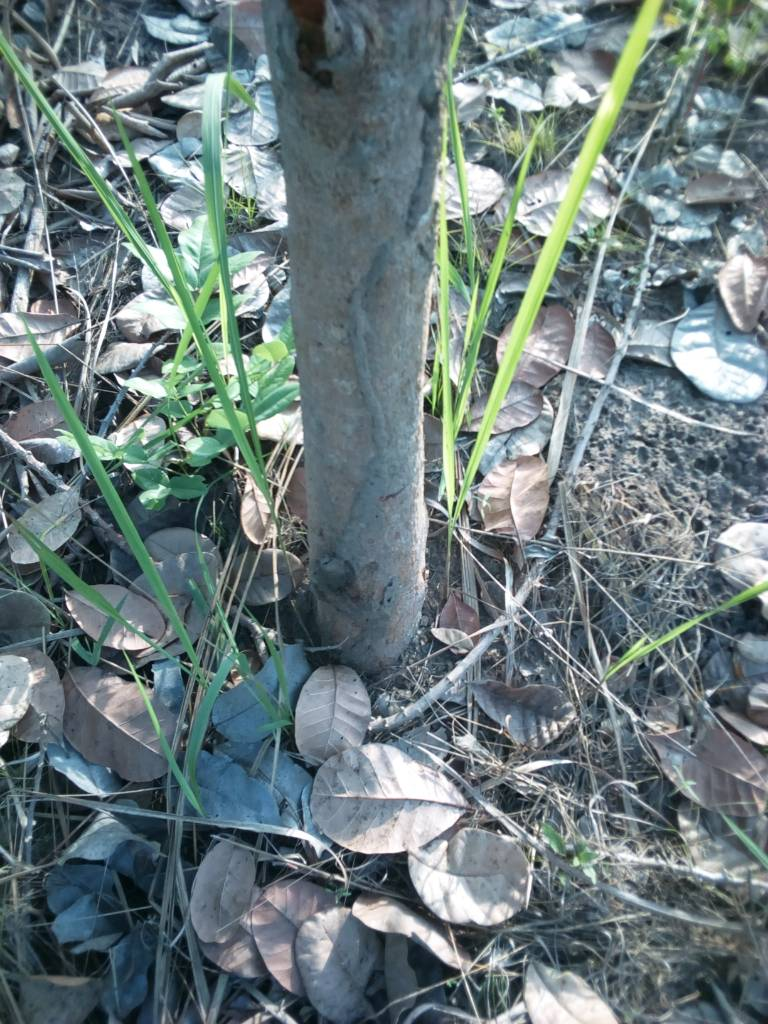Termites: (340, 250, 411, 663), (400, 72, 447, 227)
